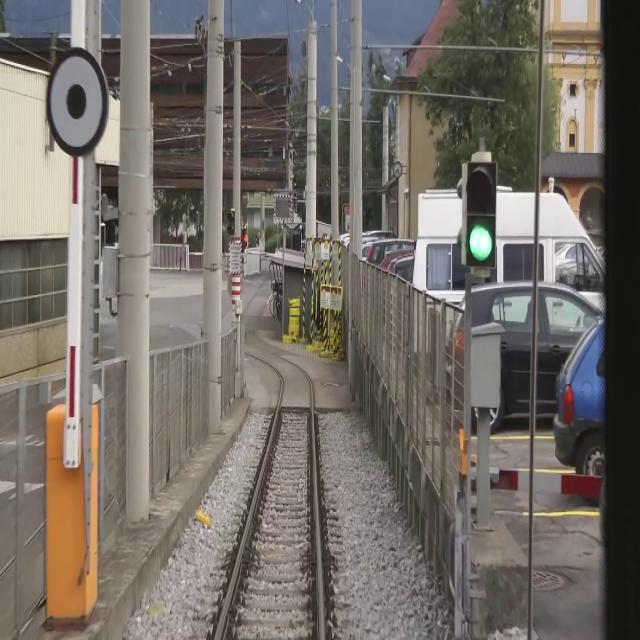rail-track: (218, 283, 319, 639)
